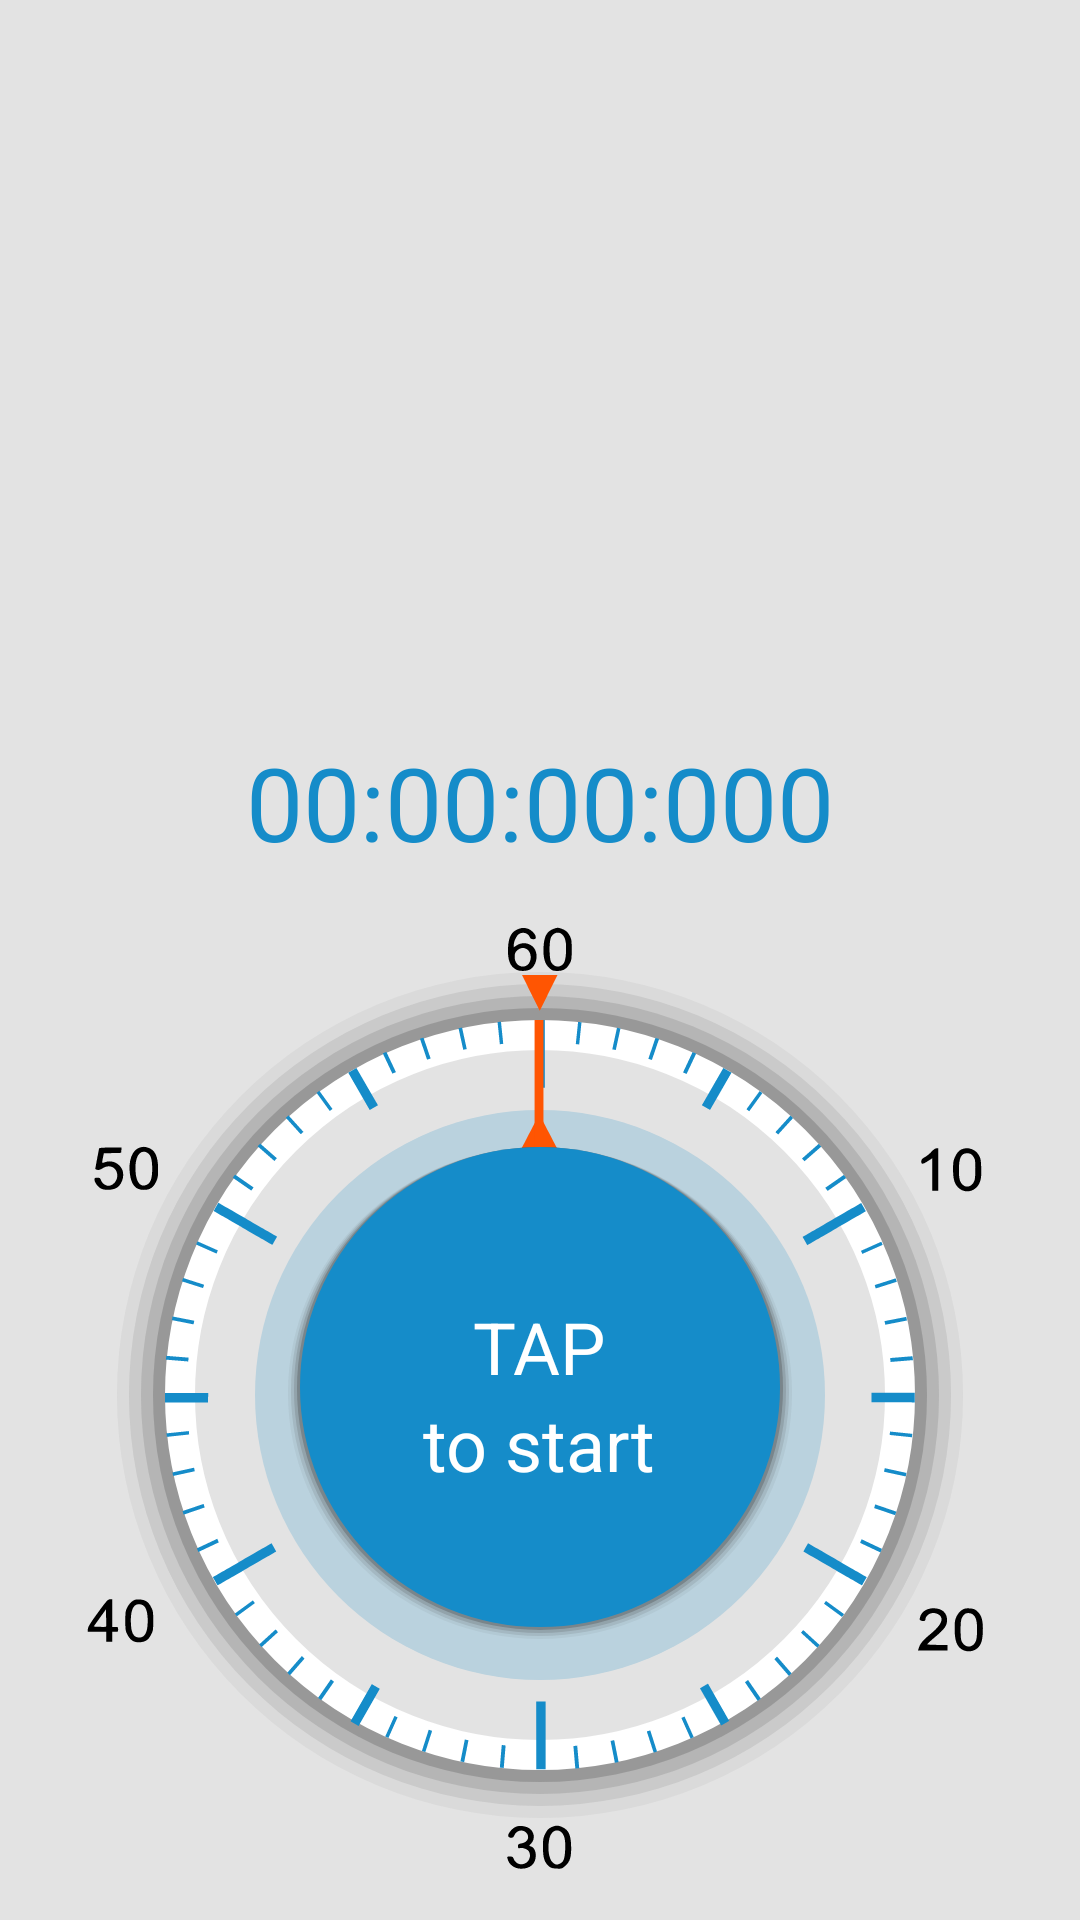

Screen size 1080w x 1920h. Icon name, then its center in pixels as point (x, y):
triangle: point (540, 993)
